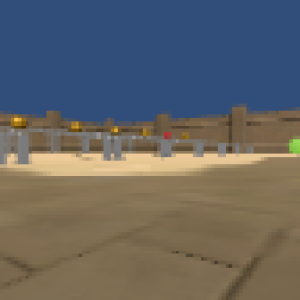badGoal: (163, 130, 173, 140)
goodGoal: (288, 136, 300, 155)
goodGoalMulti: (10, 113, 28, 127), (68, 121, 83, 132), (110, 124, 123, 136), (139, 125, 153, 135), (181, 131, 189, 139)
wall: (16, 128, 31, 165), (102, 135, 121, 161), (1, 128, 10, 164), (157, 140, 174, 158), (48, 130, 61, 152), (216, 141, 228, 157), (193, 139, 204, 156), (81, 133, 90, 152), (246, 144, 254, 154), (235, 143, 241, 155)
